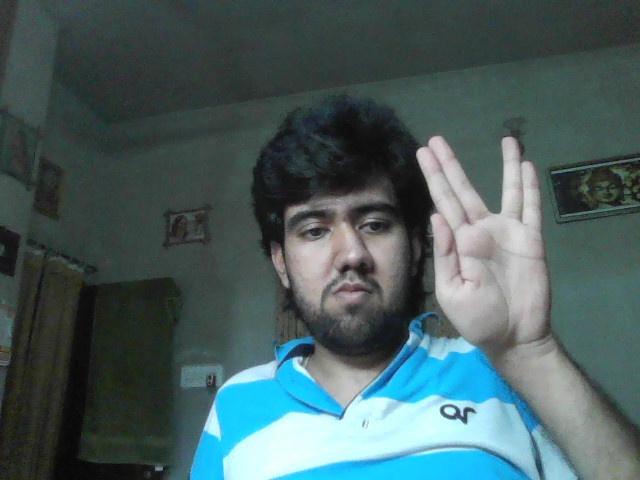LiveLong: (415, 136, 551, 343)
